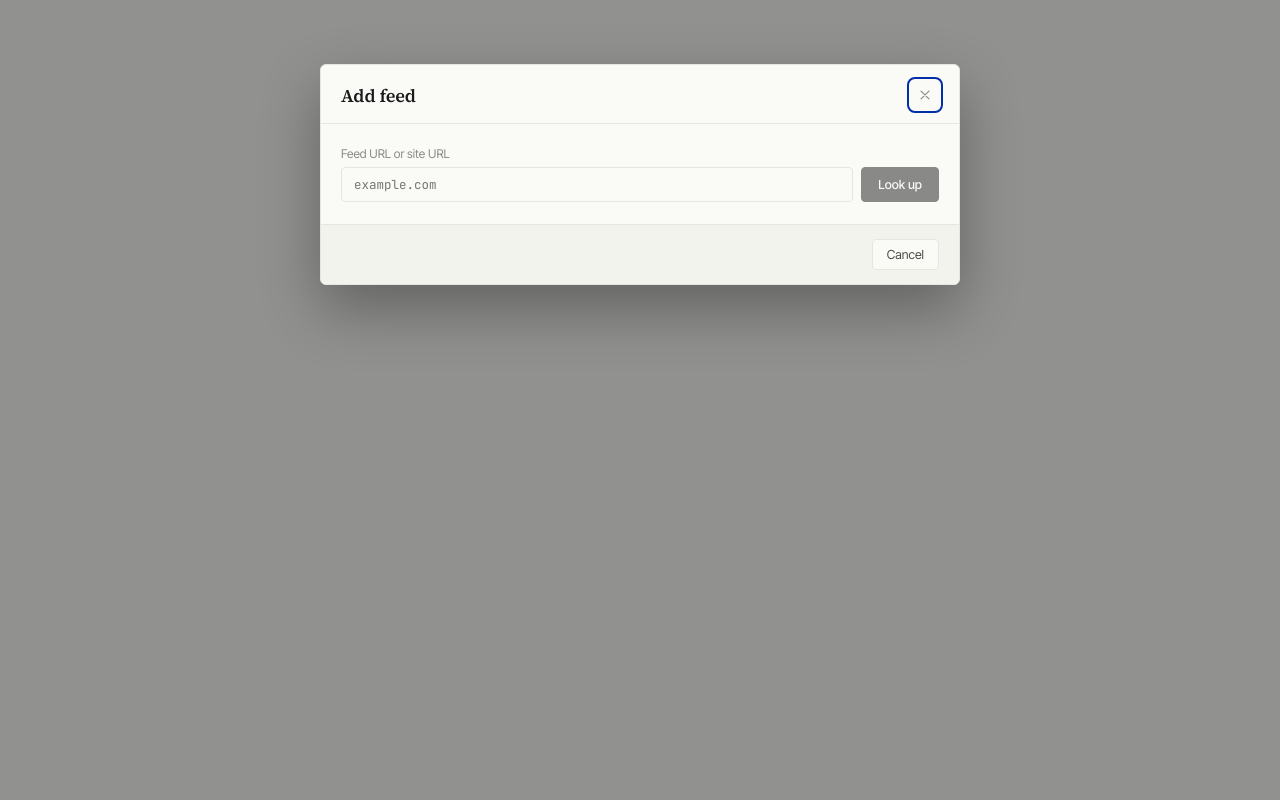
it: AddFeedDialog — category assignment + subscribe › renders Uncategorised + a button for each category
Step 1. Type "https://x" into the field with placeholder "example.com" → (597,184), box [341, 167, 853, 202]
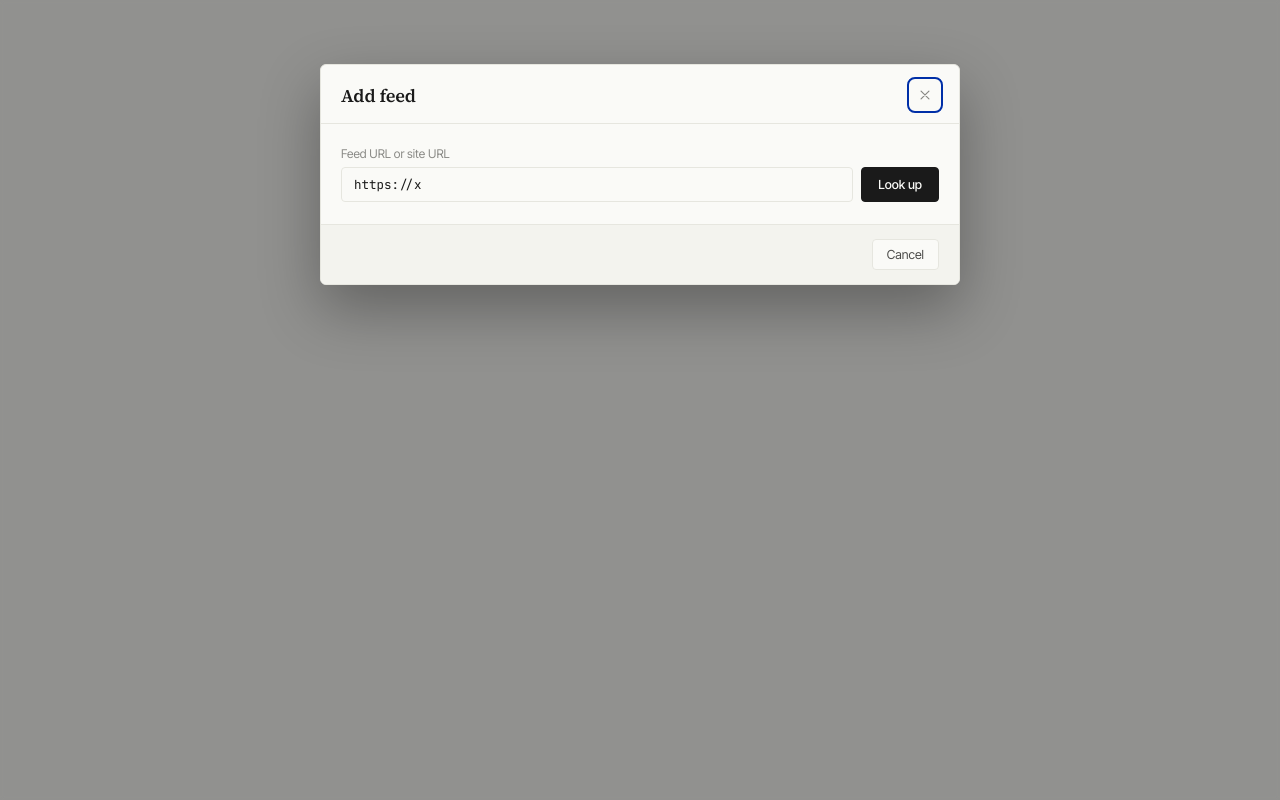
Step 2. Click the button "Look up" → (900,184), box [861, 167, 939, 202]
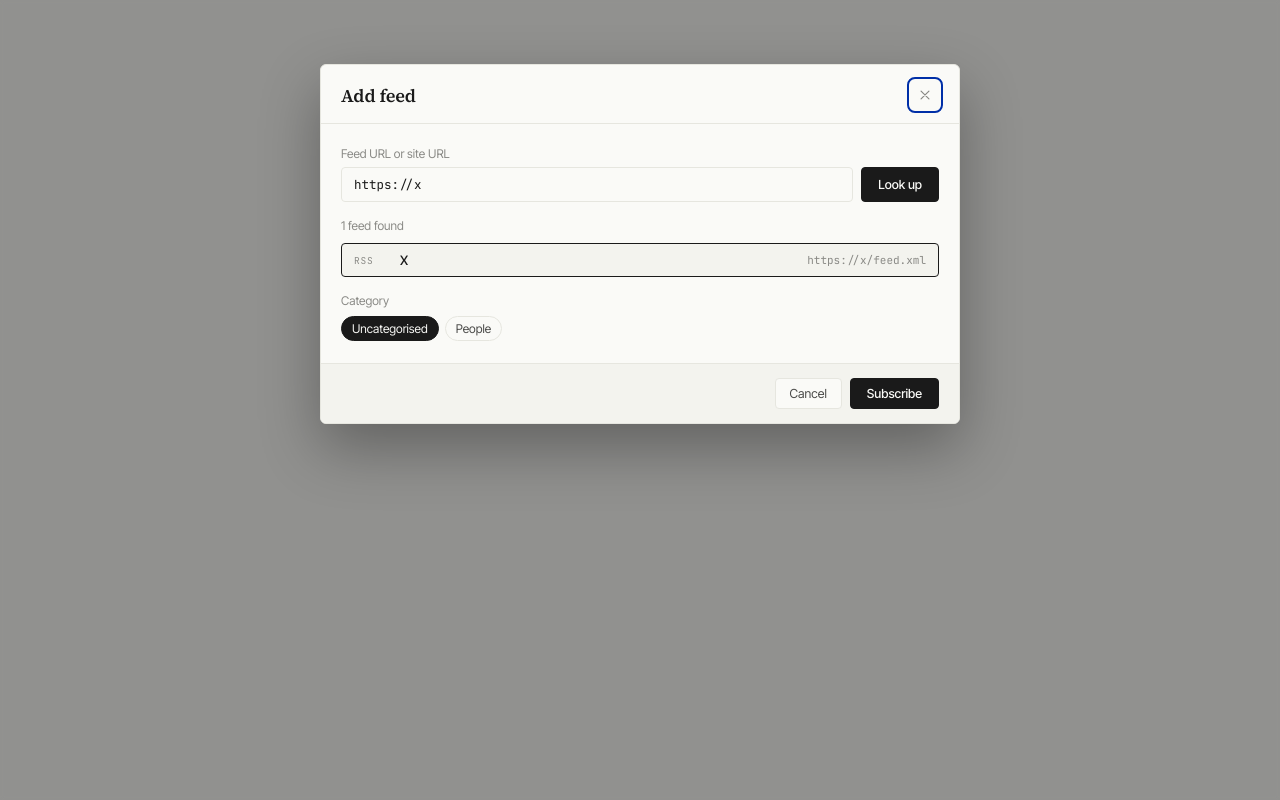
Expected: the button "Uncategorised" is shown, [341, 316, 439, 341]
Expected: the button "People" is shown, [445, 316, 502, 341]
